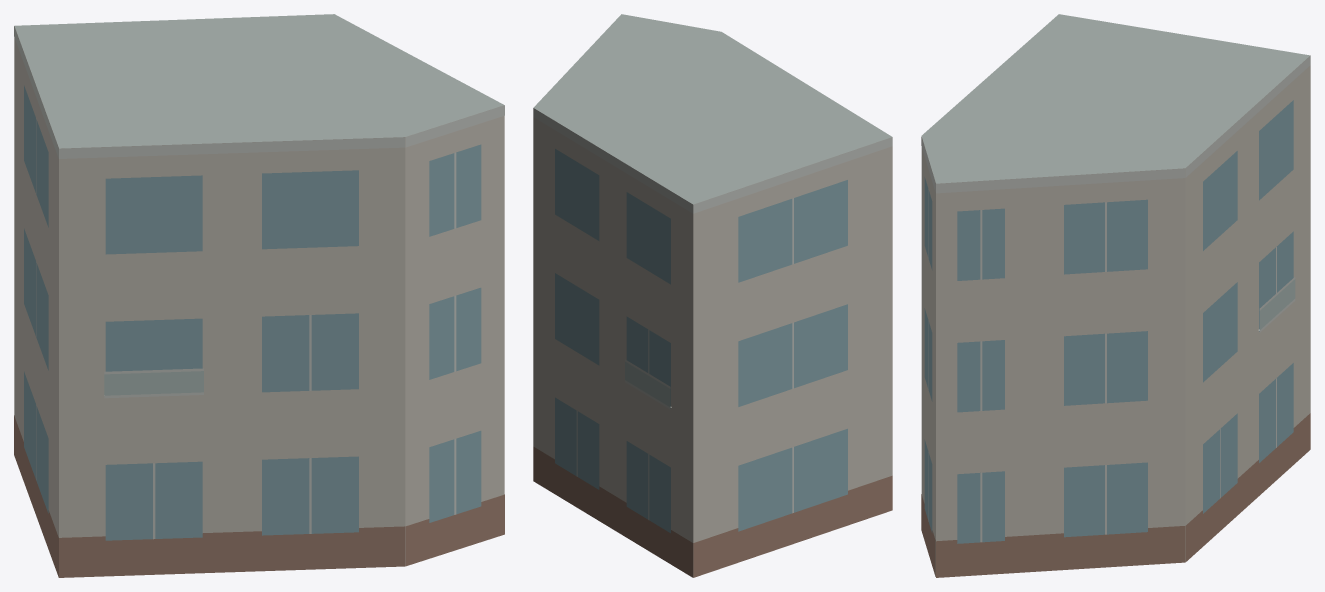
Rendered from survey-upis-32495929.glb.
3 views of the same model, side by side, from view 1: azimuth 30°, elevation 25°; view 2: azimuth 150°, elevation 25°; view 3: azimuth 270°, elevation 25° (orthographic). The views are drawn at different scales.
Parts seen in each view (by area): view 1: survey-upis-32495929.tmp; view 2: survey-upis-32495929.tmp; view 3: survey-upis-32495929.tmp.
Part boxes in pixels (bbox=[...]): survey-upis-32495929.tmp: bbox=[14, 14, 504, 577]; survey-upis-32495929.tmp: bbox=[533, 14, 892, 577]; survey-upis-32495929.tmp: bbox=[921, 14, 1310, 577].
Size of the model in its own units: 9.15 by 9.9 by 8.87.
